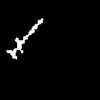double_crochet: (7, 19, 42, 58)
